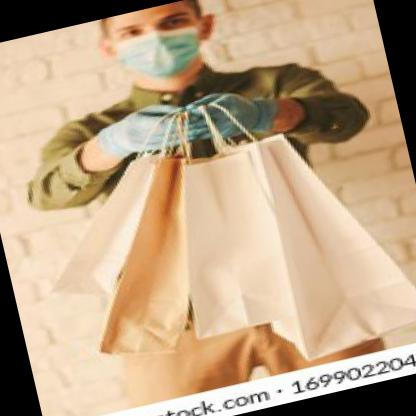Gloves: (95, 98, 200, 160), (183, 82, 280, 148)
